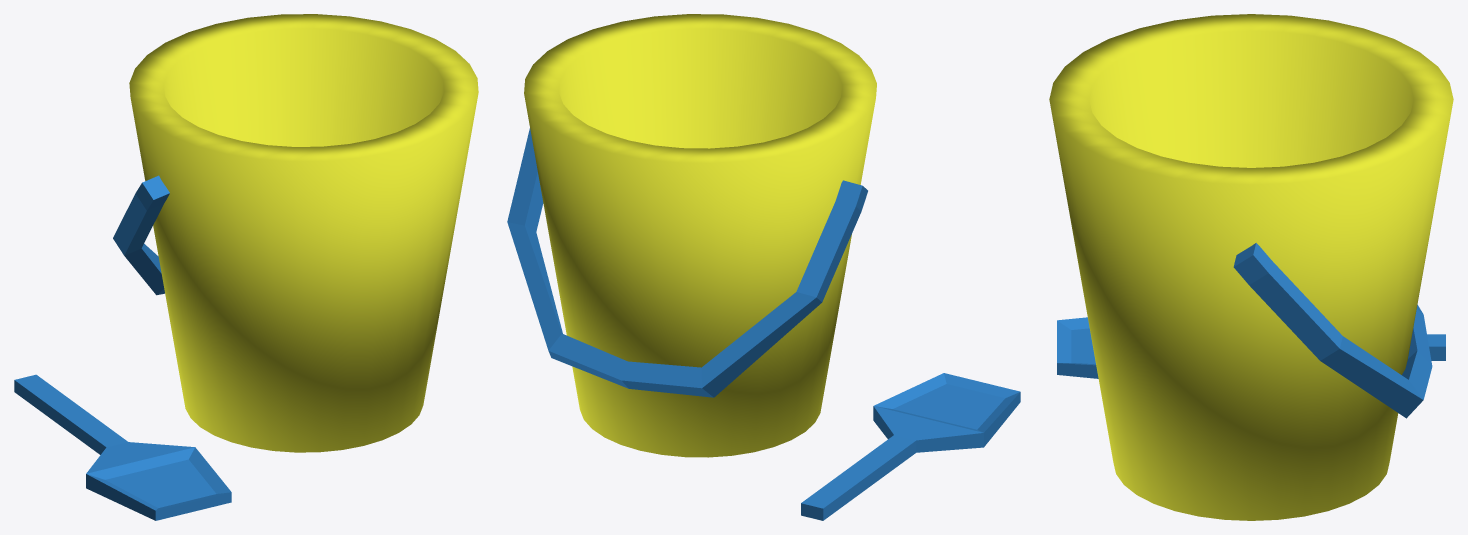
The model's file is bucketAndShovel.fbx.
The picture shows the model from 3 angles, left to right: view 1: azimuth 30°, elevation 25°; view 2: azimuth 150°, elevation 25°; view 3: azimuth 270°, elevation 25°; orthographic projection. The views are drawn at different scales.
Visible parts, largest first — view 1: bucket, shovel; view 2: bucket, shovel; view 3: bucket, shovel.
Part boxes in pixels (x1=…): bucket: x1=113, y1=14, x2=478, y2=452; shovel: x1=14, y1=374, x2=231, y2=520; bucket: x1=507, y1=14, x2=876, y2=457; shovel: x1=801, y1=373, x2=1020, y2=520; bucket: x1=1049, y1=14, x2=1453, y2=520; shovel: x1=1057, y1=317, x2=1445, y2=378.
Bounding box in the file's own units: 72.3 × 53.39 × 53.42.
